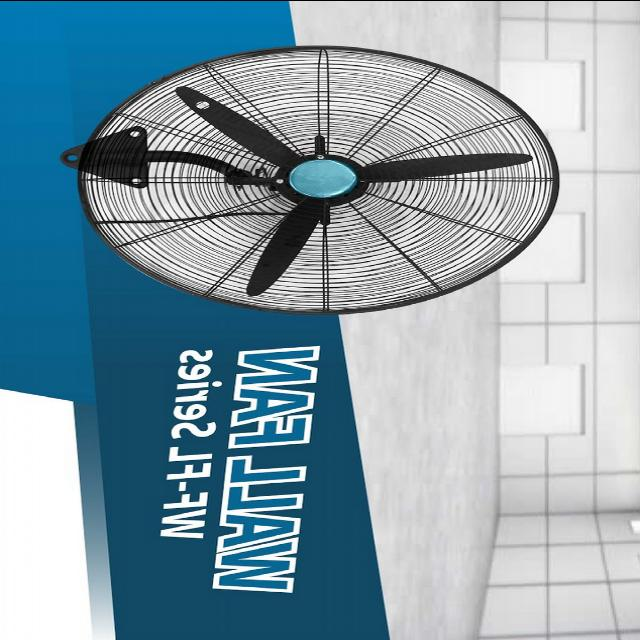fan: (56, 43, 562, 312)
